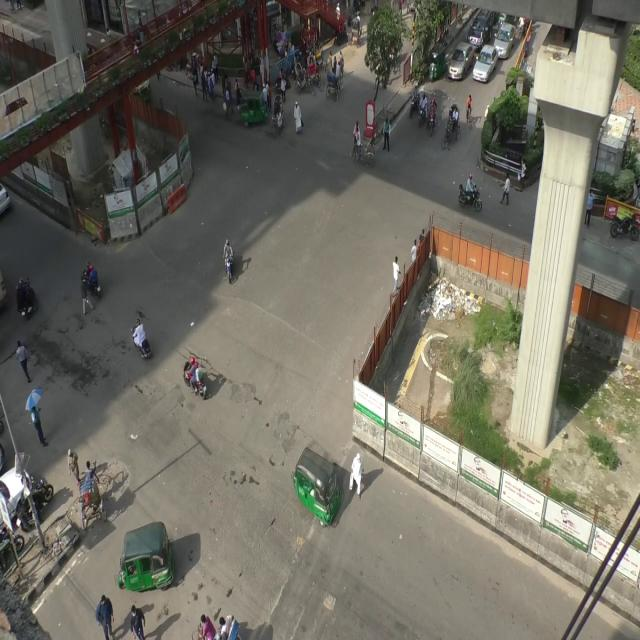cng: (116, 524, 177, 598), (294, 448, 344, 536), (237, 80, 271, 130), (425, 43, 445, 87)
rikshaw: (440, 104, 462, 151), (292, 61, 314, 98), (326, 66, 345, 98), (306, 53, 322, 90), (350, 13, 365, 46)
